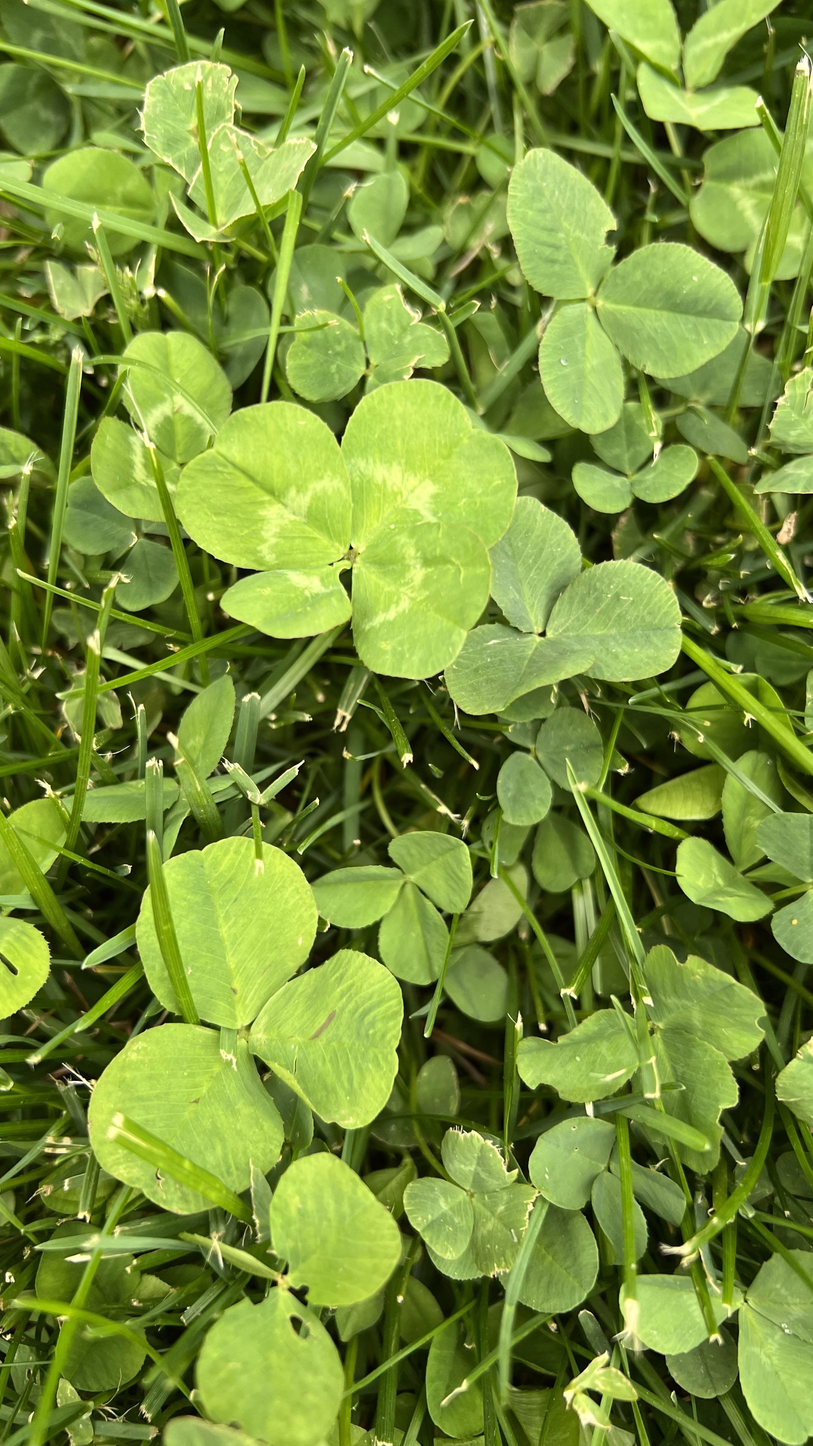4-Leaf-Clovers: (178, 380, 510, 682)
